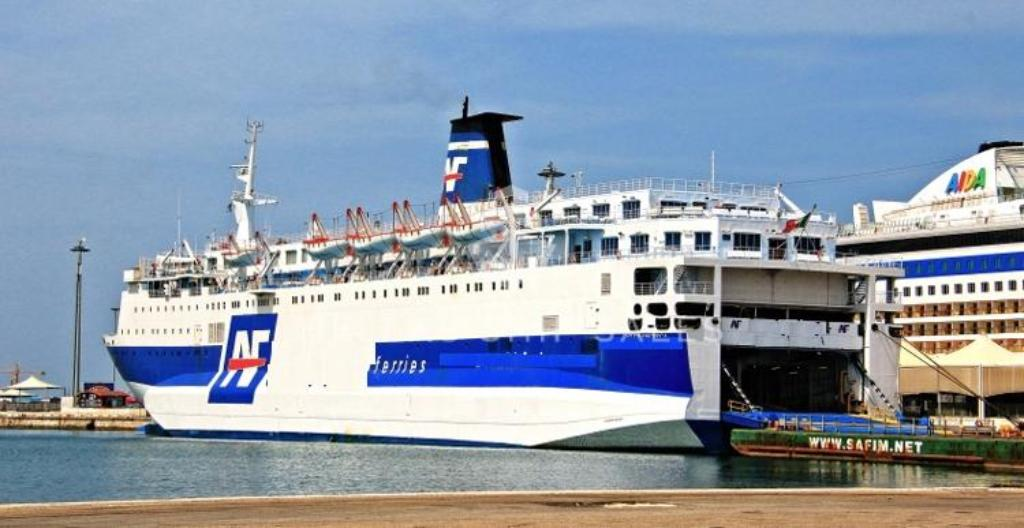PassengerShip: (99, 102, 911, 462)
